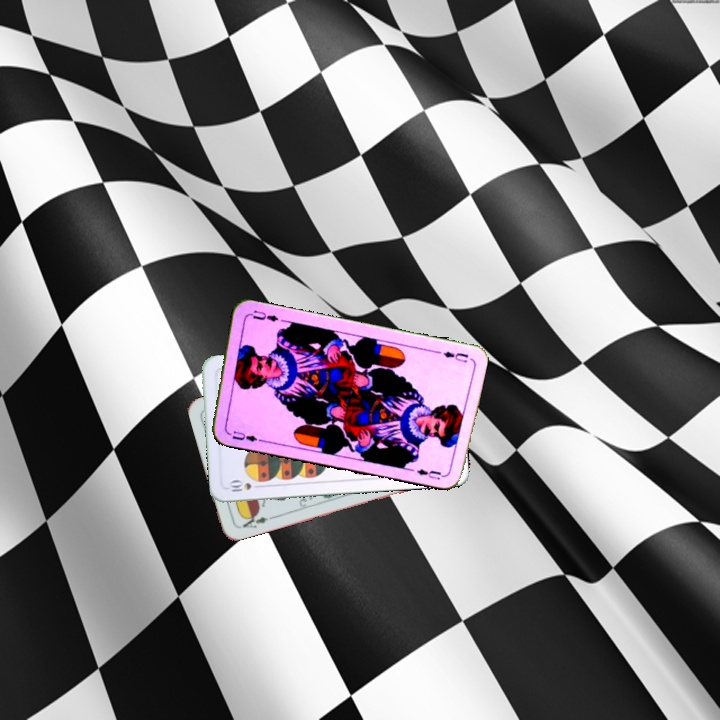EA: (235, 510, 275, 531)
EU: (228, 427, 263, 444), (439, 347, 471, 365)
S10: (224, 477, 254, 494)
